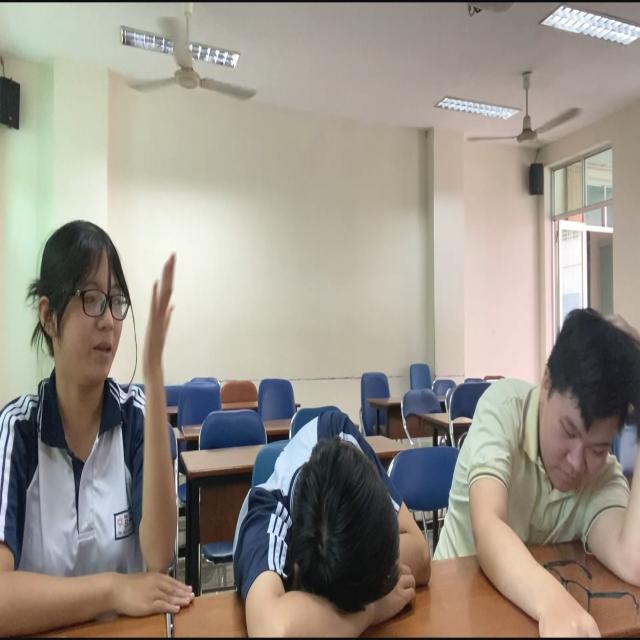raise_hand: (2, 219, 197, 621)
sleep: (452, 301, 640, 567), (236, 409, 437, 636)
